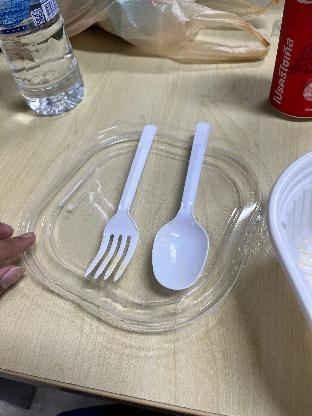Others: (144, 119, 226, 298), (77, 124, 163, 288)
